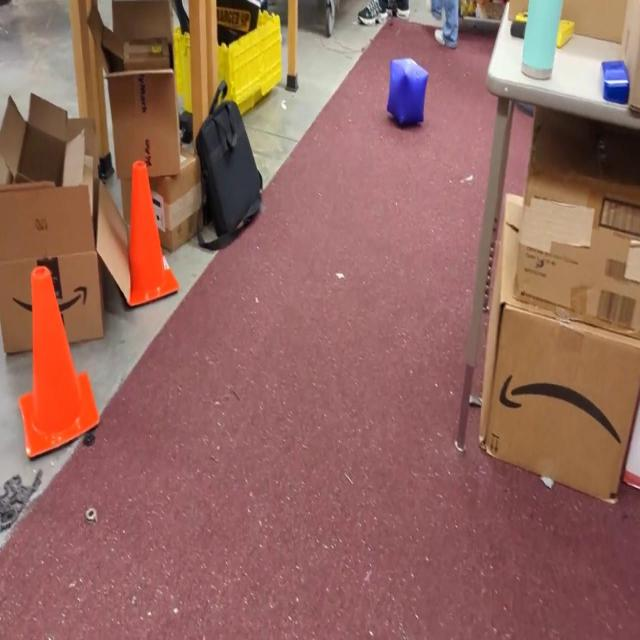frc_cube: (385, 55, 431, 129)
